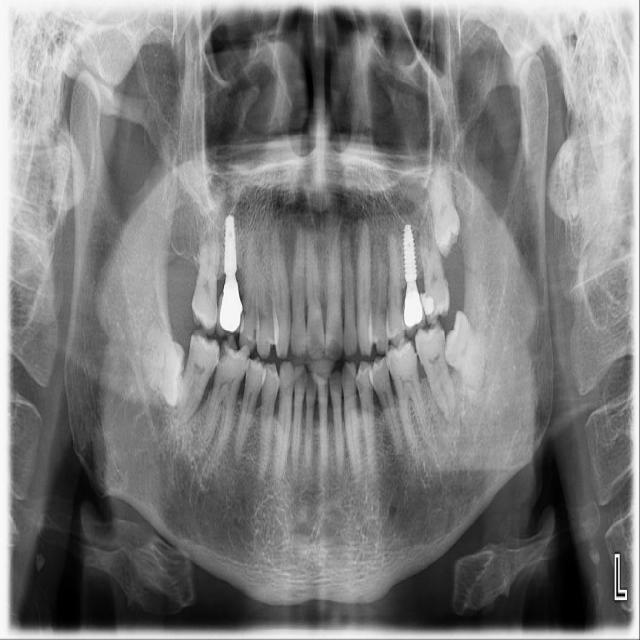Caries: (218, 339, 230, 363)
Crown: (218, 280, 243, 334), (403, 286, 425, 330)
Filling: (420, 290, 443, 319)
Implant: (402, 223, 416, 288), (224, 213, 235, 281)
impacted tooth: (129, 322, 182, 403), (442, 310, 492, 390), (426, 165, 460, 251)
